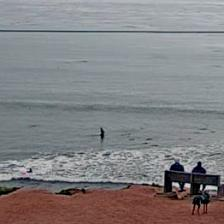surfer: (99, 127, 105, 139), (28, 168, 34, 173)
